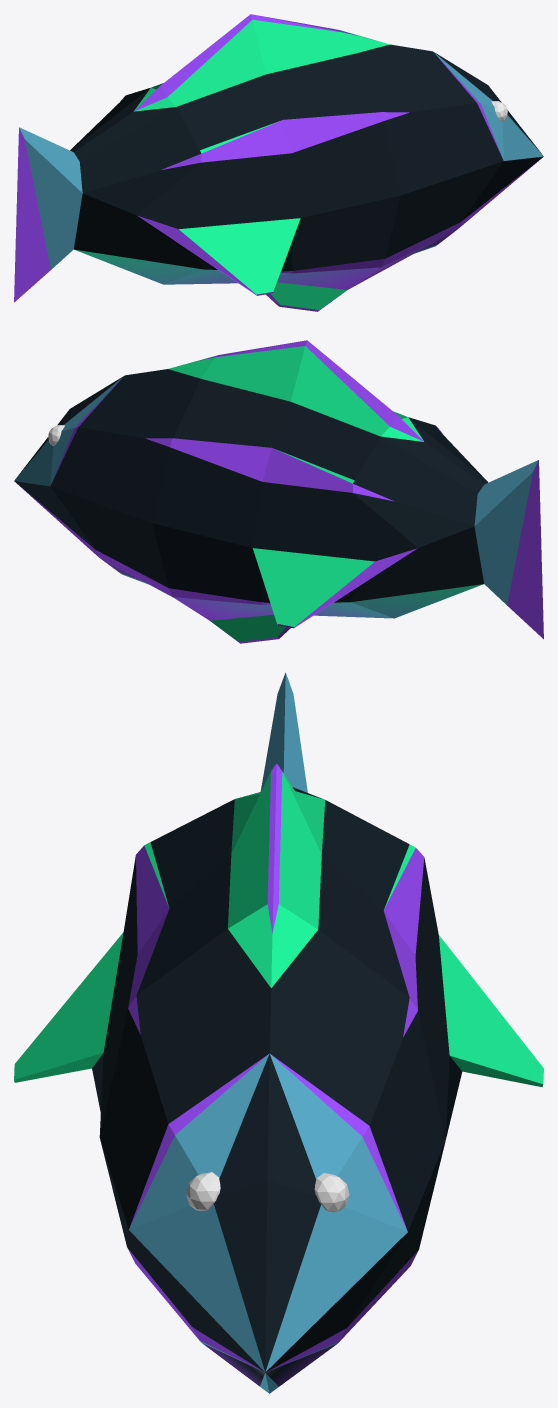
Rendered from fish.glb.
3 views of the same model, one above another, from view 1: azimuth 30°, elevation 25°; view 2: azimuth 150°, elevation 25°; view 3: azimuth 270°, elevation 25° (orthographic). The views are drawn at different scales.
Visible parts, largest first — view 1: Cube.001; view 2: Cube.001; view 3: Cube.001.
Boxes of the visible parts, box(x1,y1,x2,y2) form: Cube.001: box(14, 14, 543, 311); Cube.001: box(14, 340, 543, 643); Cube.001: box(14, 672, 543, 1393).
Bounding box in the file's own units: 4.02 × 2.3 × 2.03.
Materials: 2 (2 with a texture image).
